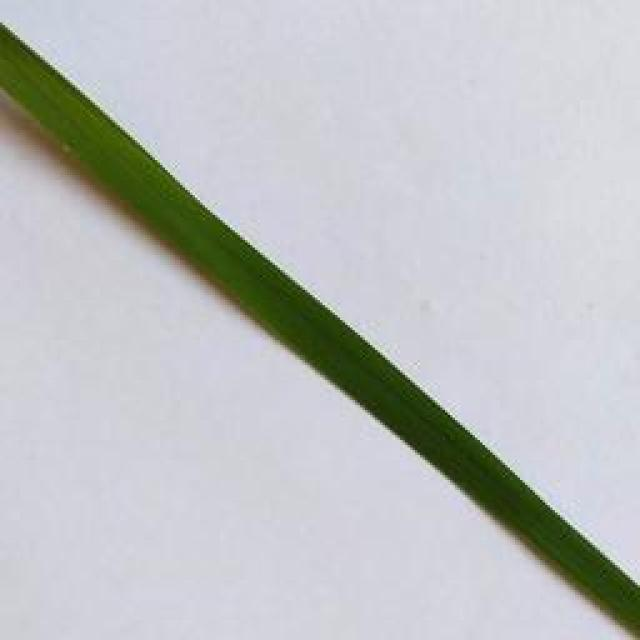Healthy-Plant: (0, 24, 640, 633)
